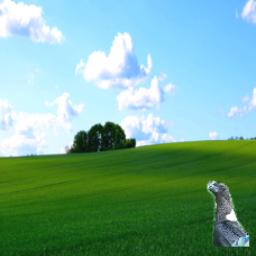Crow: (207, 182, 249, 248)
